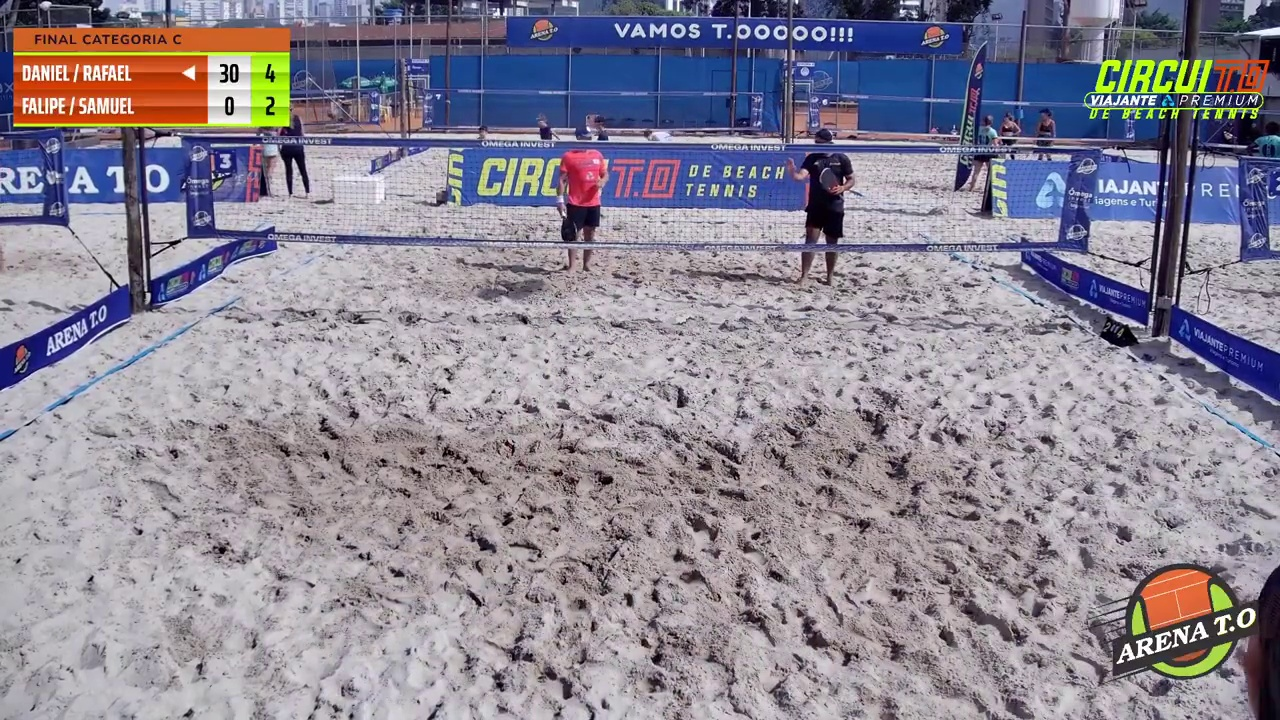court_line: (637, 0, 805, 252)
